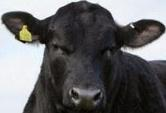muzzles: (66, 85, 105, 108)
